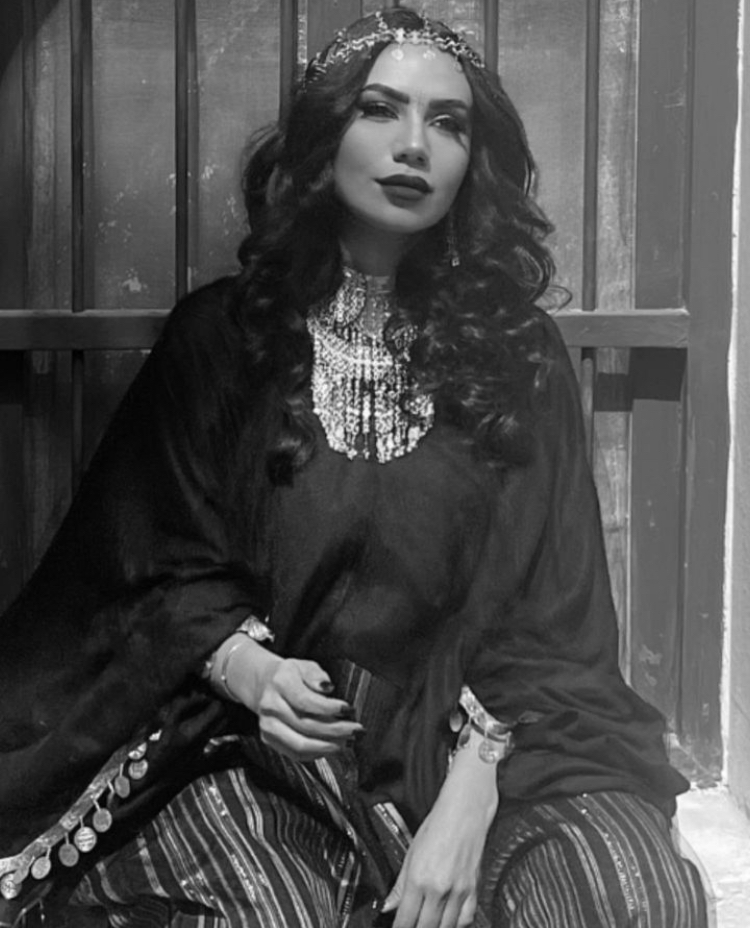Saudi_Founding_Day: (1, 5, 715, 928)
